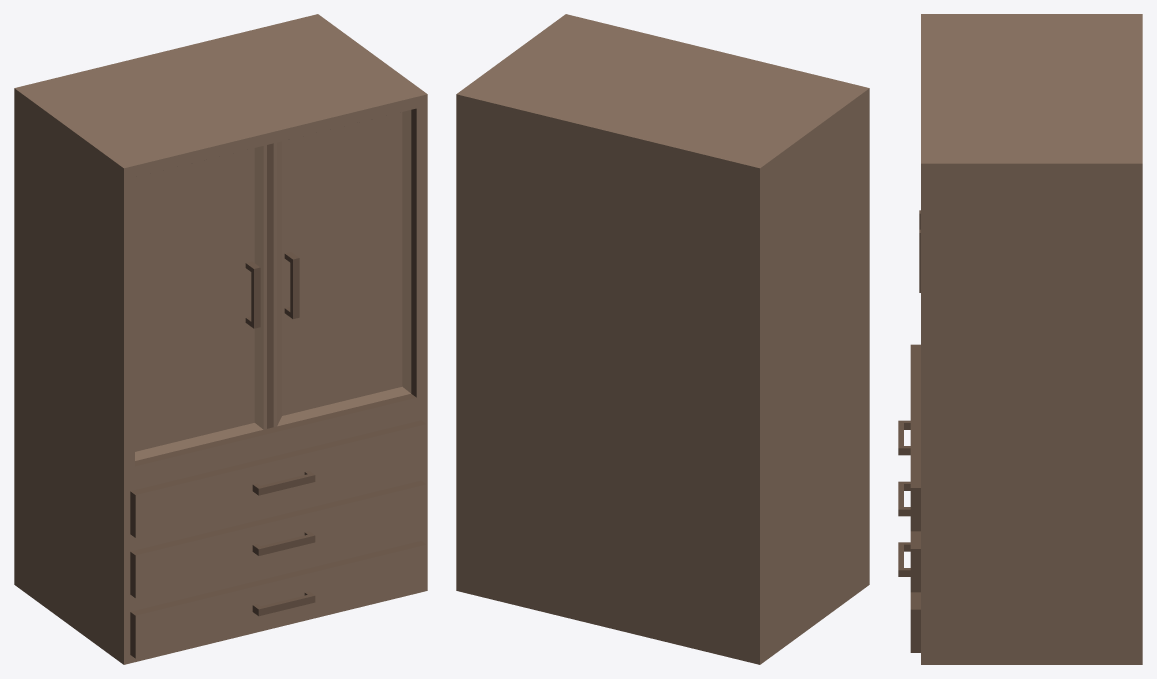
File: dresser.fbx
3 views of the same model, side by side, from view 1: azimuth 30°, elevation 25°; view 2: azimuth 150°, elevation 25°; view 3: azimuth 270°, elevation 25° (orthographic).
Parts seen in each view (by area): view 1: dresser; view 2: dresser; view 3: dresser.
Part boxes in pixels (x1,y1,x2,y2): dresser: [14, 14, 427, 664]; dresser: [456, 14, 869, 664]; dresser: [898, 14, 1142, 664].
Size of the model in its own units: 3.2 by 5 by 2.2.
